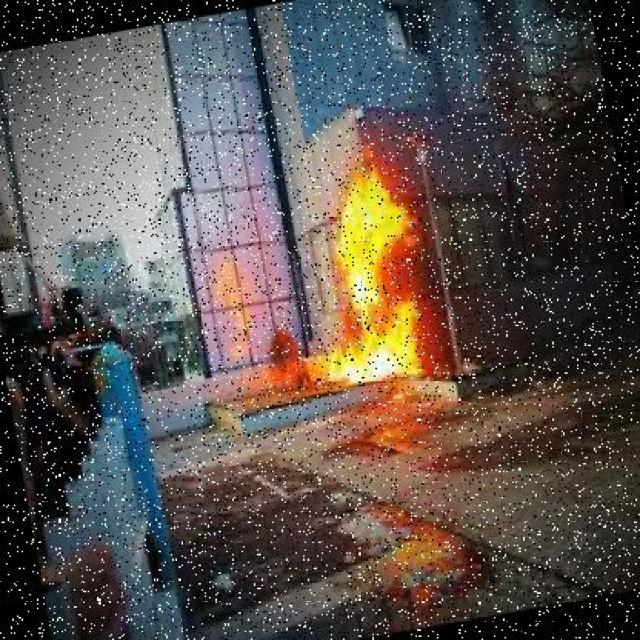fire: (292, 147, 458, 396)
